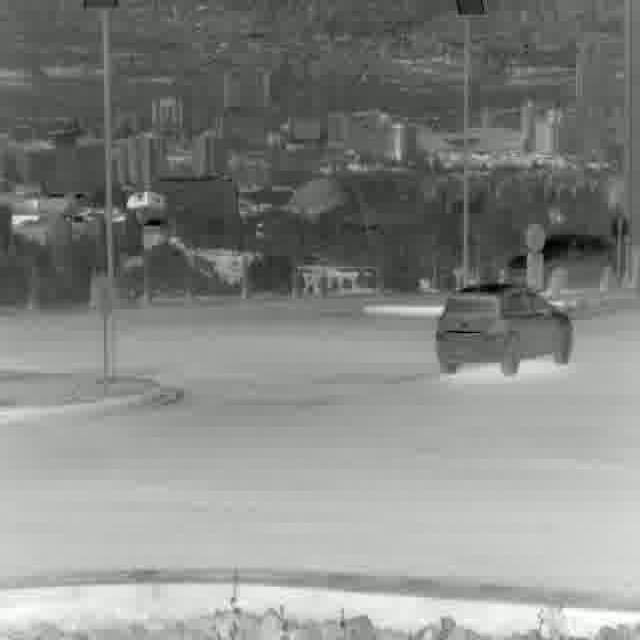Car: (434, 280, 574, 376), (505, 235, 622, 296)
